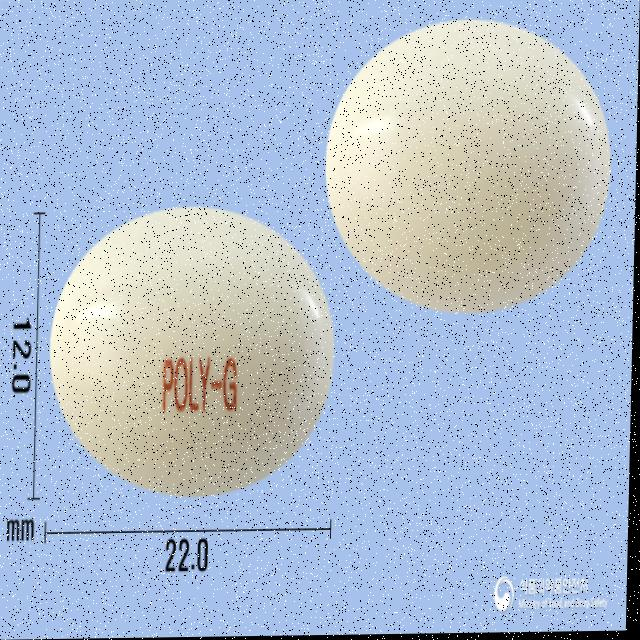Poly G Vaginal Soft Cap: (50, 201, 339, 499)
